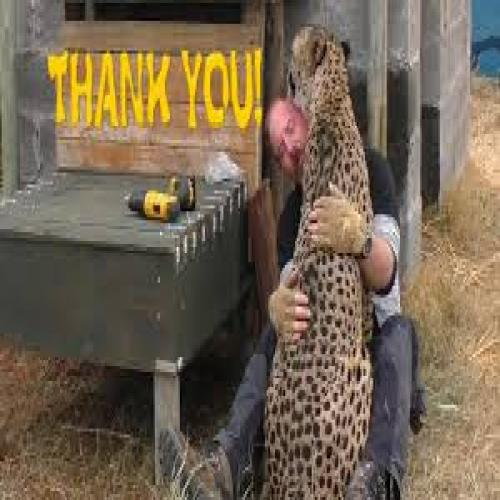cheetah-endangered: (262, 23, 374, 500)
